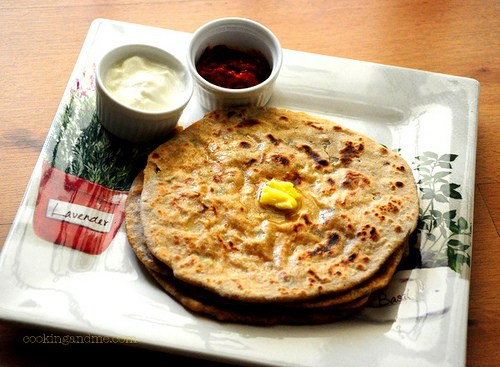aloo_paratha: (126, 108, 423, 322)
